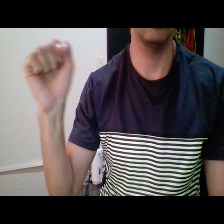9D: (18, 32, 80, 110)
